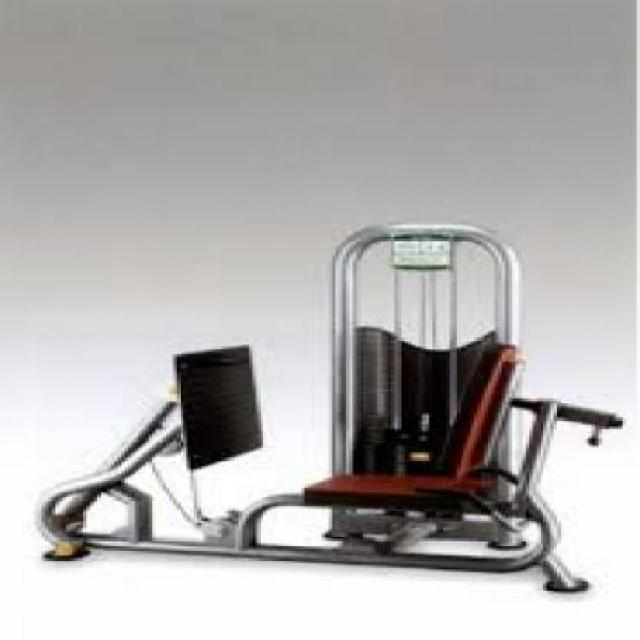leg press: (26, 209, 628, 614)
